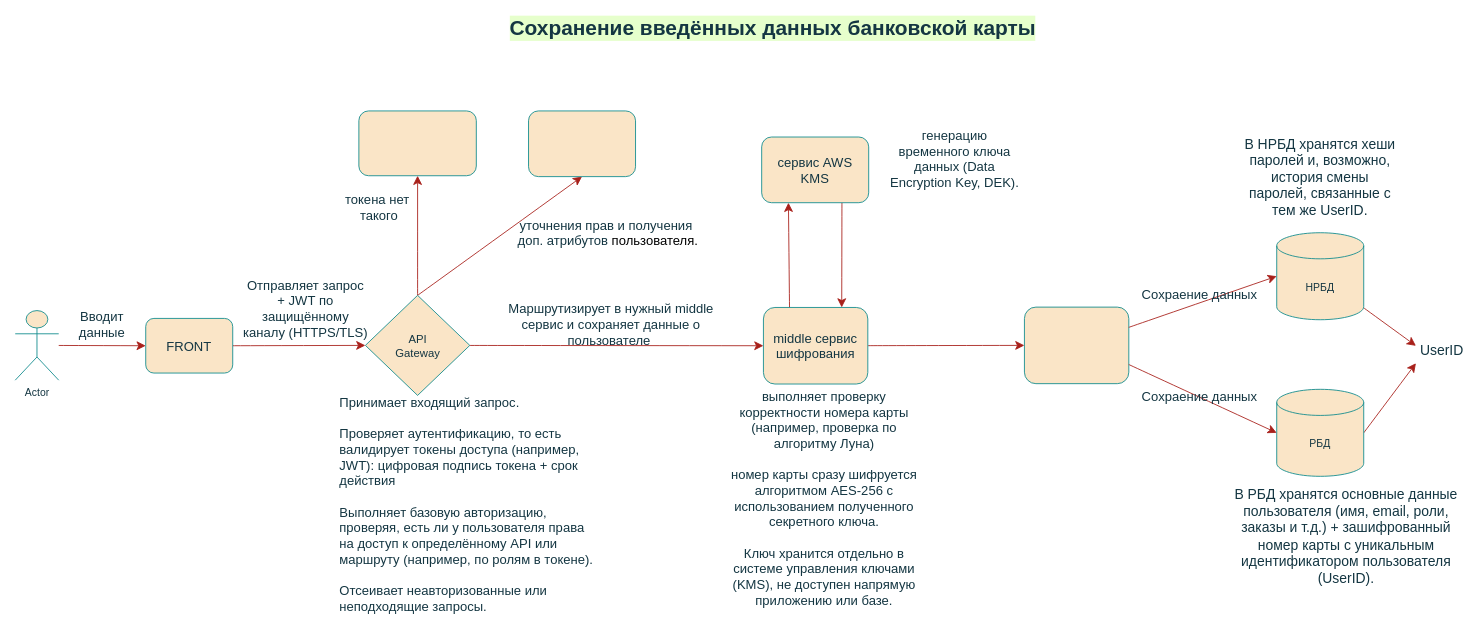
Some shapes in this 1483 by 629 pixel diagram are drawn without their labels. Here are the shapes that lost their labels. From the top down, the centre of each, then its label:
point (417, 143): middle сервис аутентификации
point (582, 143): middle сервис авторизации
point (1076, 345): back сервис
